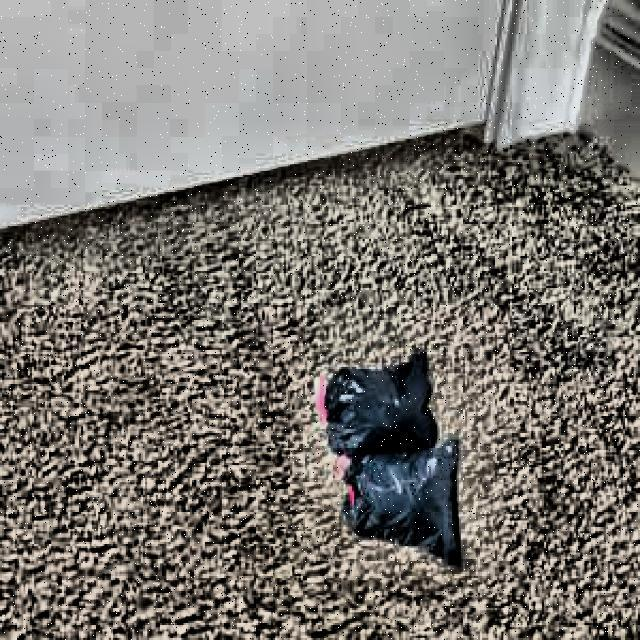Trashbag: (331, 437, 475, 573), (317, 342, 442, 460)
